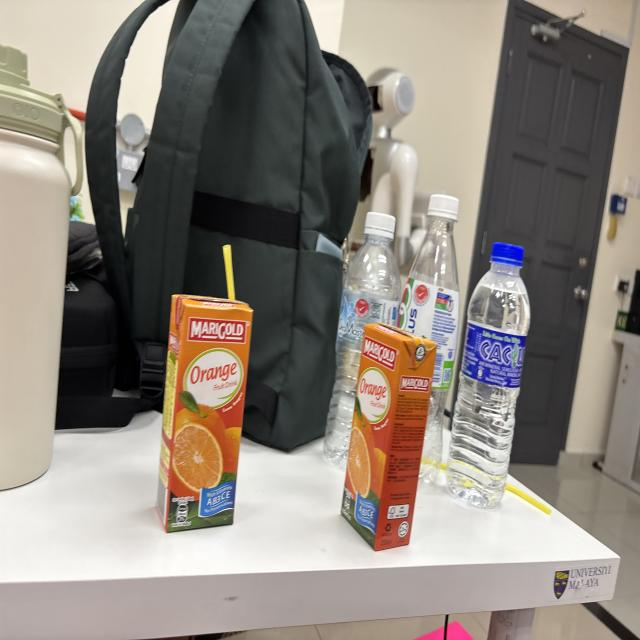drink_carton: (152, 242, 257, 540), (336, 309, 442, 556)
plastic_bottle: (438, 231, 535, 528), (322, 200, 402, 494)
